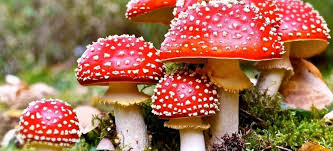Amanita muscaria: (157, 0, 283, 134), (77, 32, 166, 150), (249, 0, 325, 116), (150, 71, 220, 150), (17, 95, 83, 149)
